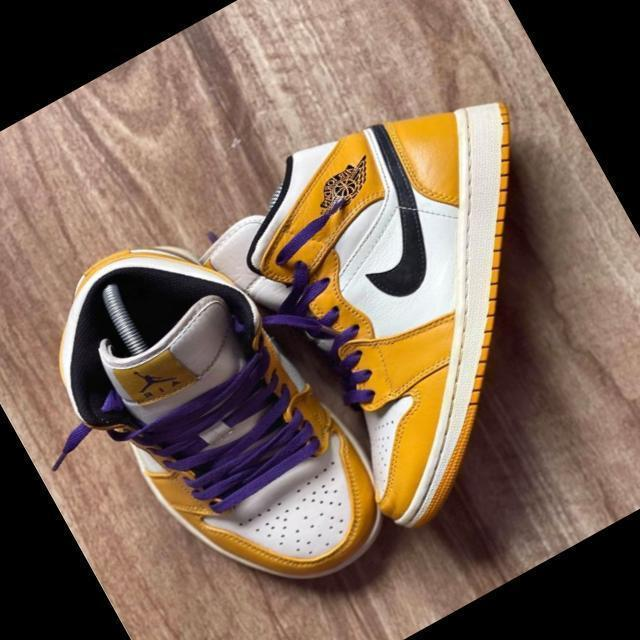nike original jordan 1: (205, 49, 640, 537), (0, 192, 411, 640)
